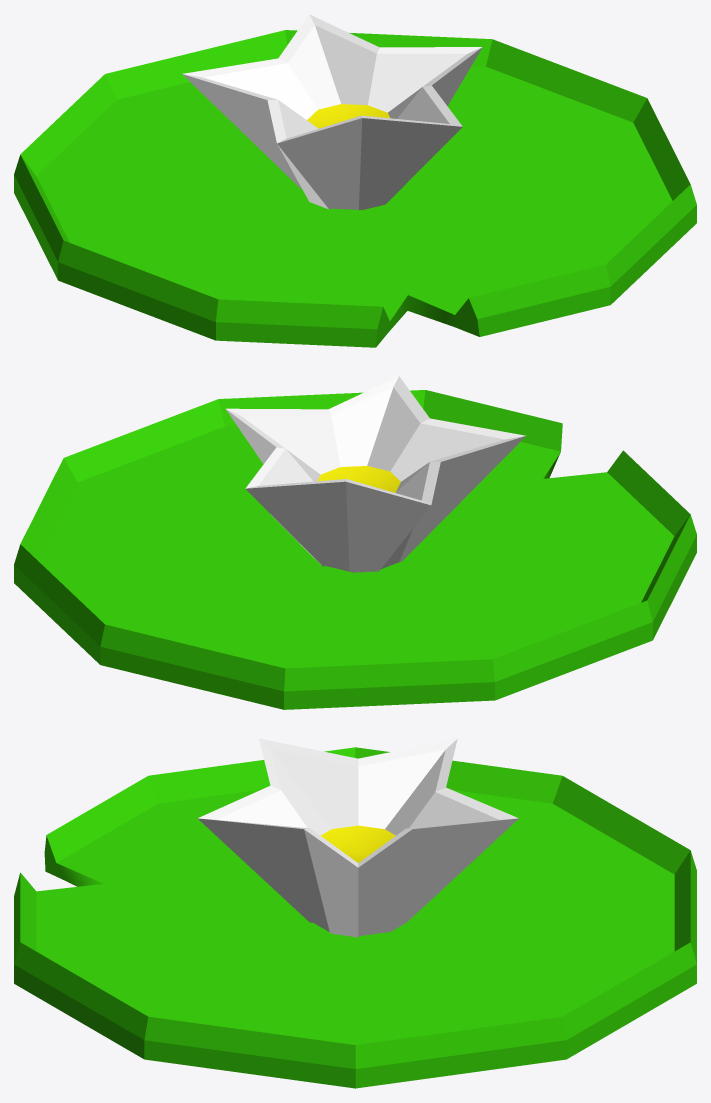
File: LilypadwFlower.fbx
3 views of the same model, one above another, from view 1: azimuth 30°, elevation 25°; view 2: azimuth 150°, elevation 25°; view 3: azimuth 270°, elevation 25° (orthographic). The views are drawn at different scales.
Visible parts, largest first — view 1: pCylinder1, pCylinder2; view 2: pCylinder1, pCylinder2; view 3: pCylinder1, pCylinder2.
Part boxes in pixels (box(x1,y1,x2,y2)): pCylinder1: box(14, 30, 696, 347); pCylinder2: box(182, 14, 482, 210); pCylinder1: box(14, 390, 696, 709); pCylinder2: box(225, 376, 525, 572); pCylinder1: box(14, 747, 696, 1088); pCylinder2: box(198, 738, 518, 937).
Size of the model in its own units: 2.22 by 0.459 by 2.11.
